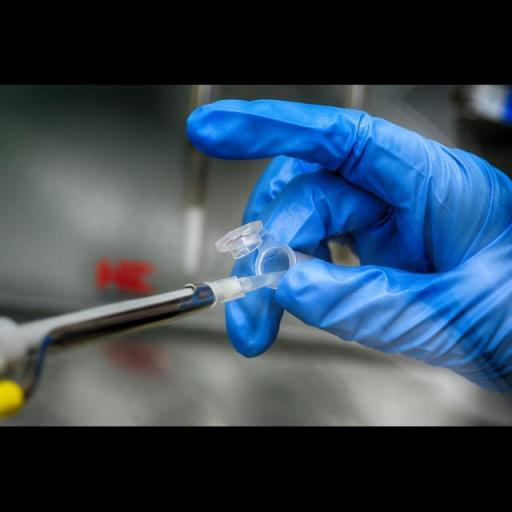gloves: (166, 84, 512, 402)
